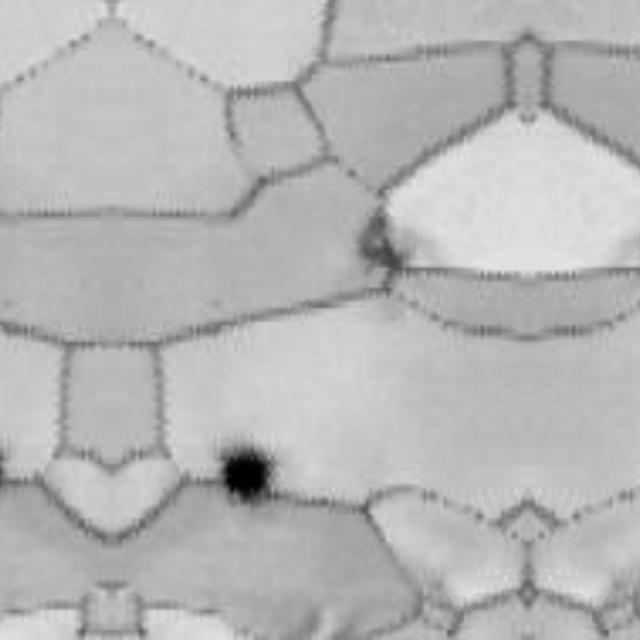good_void: (343, 205, 419, 287), (219, 438, 275, 509)
